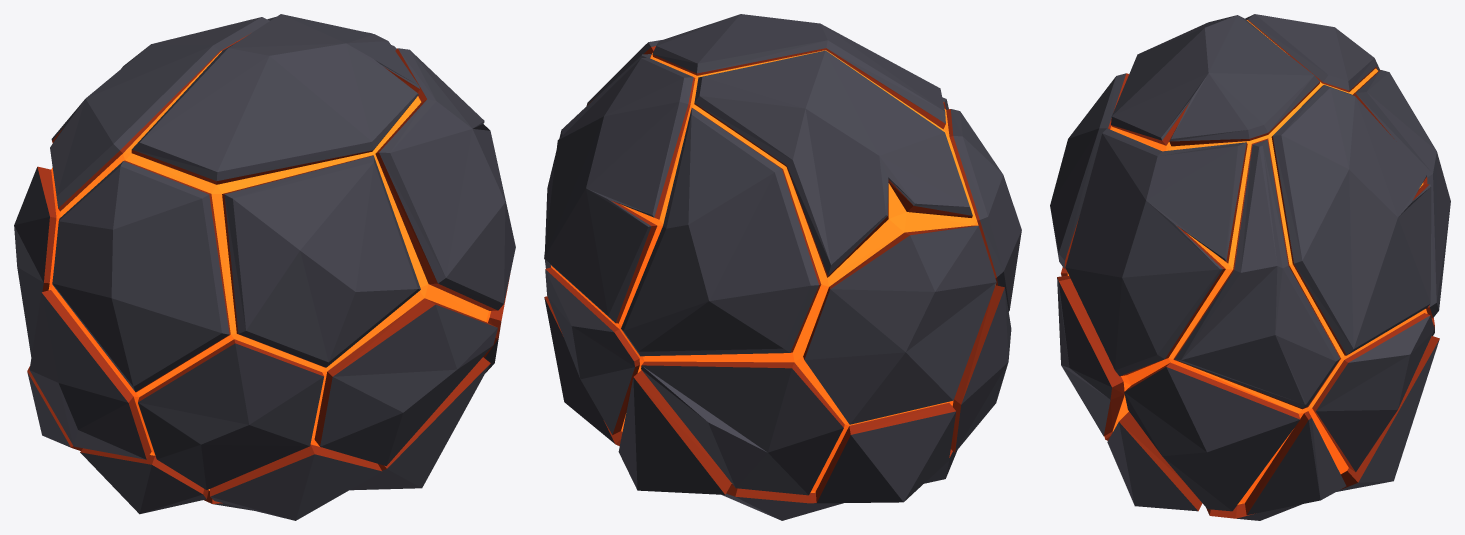
Rendered from stage4_brooding_hearthstone.glb.
The picture shows the model from 3 angles, left to right: view 1: azimuth 30°, elevation 25°; view 2: azimuth 150°, elevation 25°; view 3: azimuth 270°, elevation 25°; orthographic projection. The views are drawn at different scales.
Visible parts, largest first — view 1: stone, veins; view 2: stone, veins; view 3: stone, veins.
Boxes of the visible parts, bbox=[...] form: stone: bbox=[14, 14, 515, 520]; veins: bbox=[48, 51, 490, 490]; stone: bbox=[544, 14, 1021, 520]; veins: bbox=[551, 50, 978, 492]; stone: bbox=[1050, 14, 1450, 520]; veins: bbox=[1067, 20, 1427, 504].
Bounding box in the file's own units: 0.8028 × 0.7762 × 0.6403.
